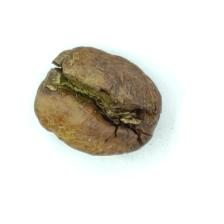NG: (44, 56, 152, 146)
